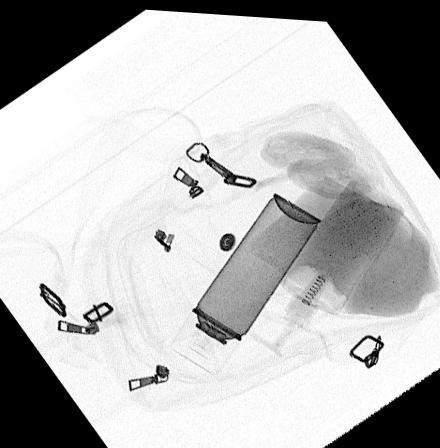Sprayer: (167, 188, 322, 374)
